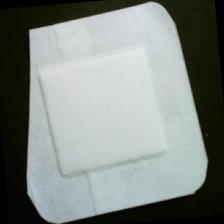Cut: (11, 1, 216, 224)
